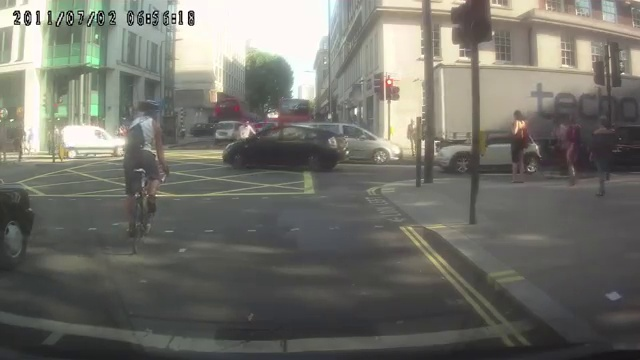cyclist_back: (122, 100, 171, 254)
